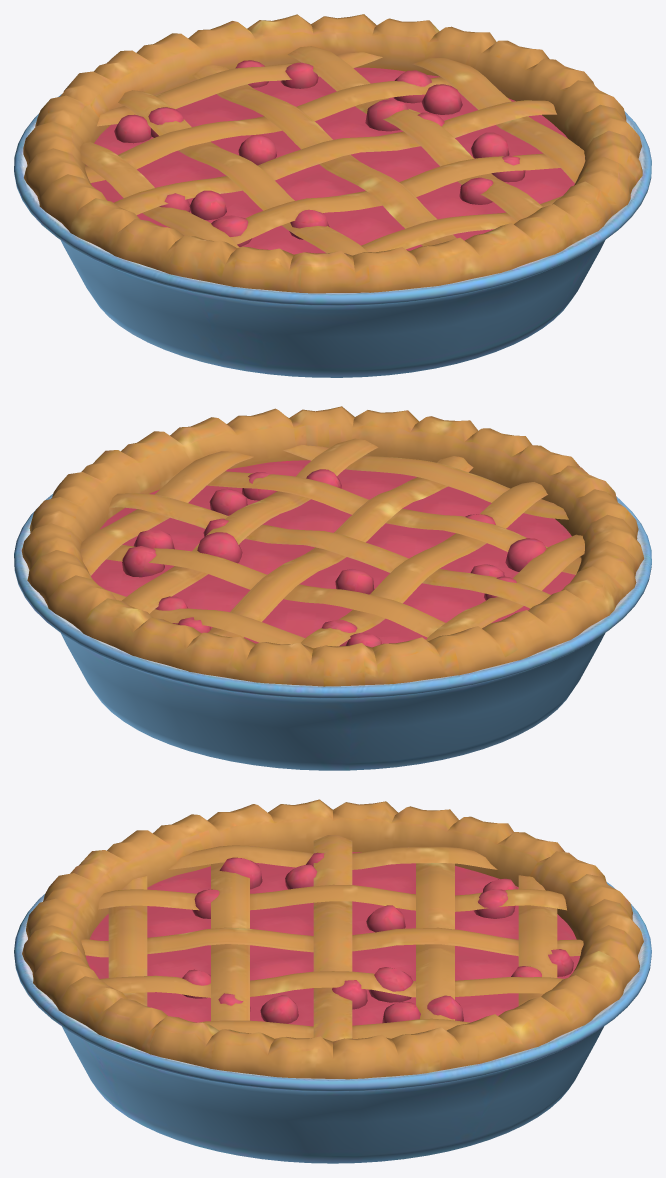
Rendered from tarta_cerezas.glb.
The picture shows the model from 3 angles, top to bottom: view 1: azimuth 30°, elevation 25°; view 2: azimuth 150°, elevation 25°; view 3: azimuth 270°, elevation 25°; orthographic projection.
Parts seen in each view (by area): view 1: cherry-pie_body; view 2: cherry-pie_body; view 3: cherry-pie_body.
Part boxes in pixels (x1=…): cherry-pie_body: x1=14, y1=14, x2=651, y2=377; cherry-pie_body: x1=14, y1=406, x2=651, y2=770; cherry-pie_body: x1=14, y1=799, x2=651, y2=1163.
Bounding box in the file's own units: 0.2552 × 0.0632 × 0.2552.
Materials: 1 (1 with a texture image).
